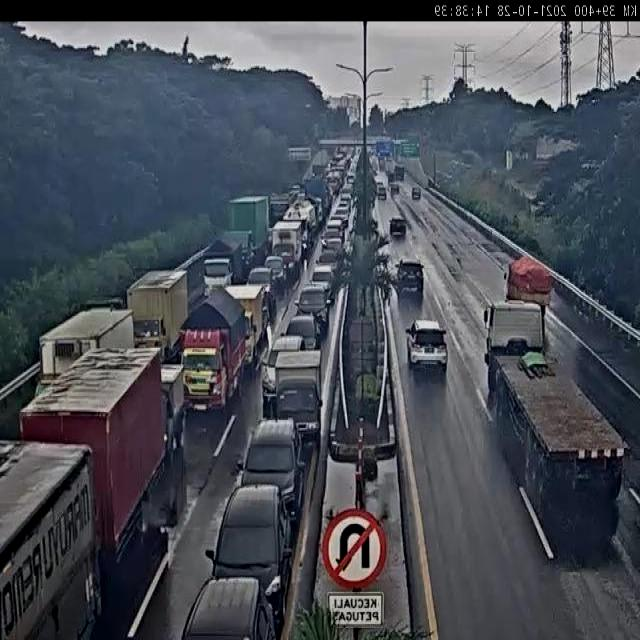Car: (207, 484, 294, 630), (236, 420, 304, 522), (405, 318, 448, 378), (295, 284, 332, 338), (284, 312, 320, 354), (395, 259, 425, 301), (309, 264, 336, 304), (247, 266, 276, 302), (264, 254, 286, 293), (272, 334, 304, 358), (320, 227, 343, 250), (317, 249, 339, 267), (326, 238, 344, 259), (389, 217, 407, 236), (335, 205, 350, 227), (326, 218, 344, 234), (389, 181, 400, 195), (378, 184, 387, 198), (412, 187, 421, 200)
Truck: (18, 344, 165, 555), (482, 298, 635, 498), (0, 437, 96, 640), (29, 302, 135, 403), (175, 285, 248, 414), (125, 268, 191, 360), (270, 345, 324, 444), (224, 282, 266, 372), (199, 236, 251, 289), (502, 255, 552, 309), (227, 196, 271, 255), (267, 218, 304, 282), (160, 363, 186, 441), (284, 198, 318, 256), (302, 178, 330, 223), (269, 190, 293, 228), (385, 160, 395, 177), (394, 165, 404, 180)
